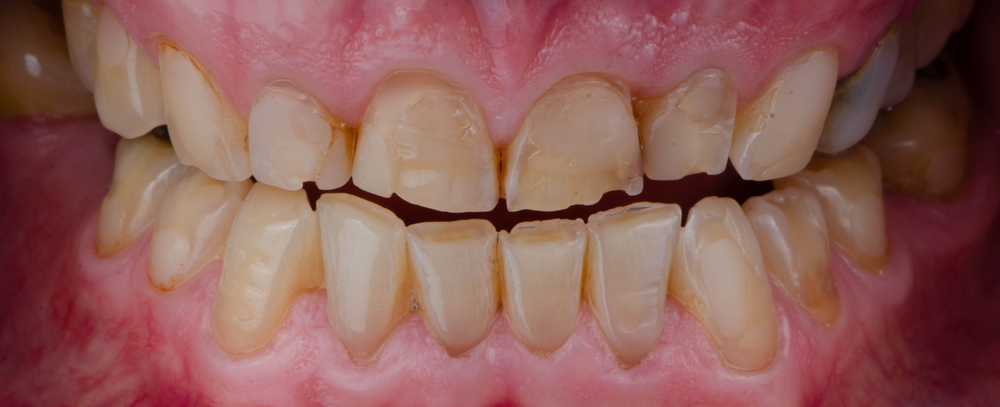LL1BC_healthy: (749, 190, 840, 315)
LL2BC_healthy: (819, 164, 895, 270)
LLCI_healthy: (504, 215, 588, 357)
LLC_healthy: (672, 196, 766, 369)
LLLI_healthy: (586, 200, 682, 365)
LR1BC_healthy: (147, 180, 229, 292)
LR2BC_healthy: (93, 132, 171, 267)
LRCI_healthy: (412, 213, 500, 360)
LRC_healthy: (224, 182, 321, 359)
LRLI_healthy: (319, 192, 414, 360)
ULCI_healthy: (503, 56, 646, 209)
ULC_healthy: (727, 46, 840, 189)
ULLI_decay: (641, 59, 735, 179)
UR1BC_healthy: (94, 9, 165, 139)
URCI_decay: (351, 72, 501, 212)
URC_decay: (157, 37, 250, 185)
URLI_decay: (244, 83, 354, 189)
